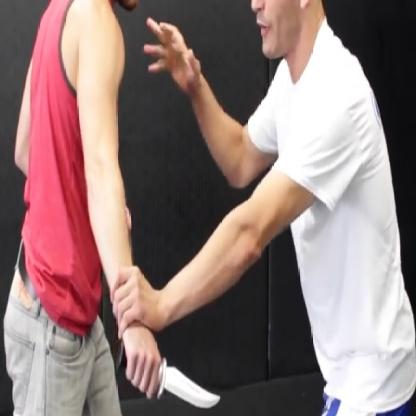knife: (113, 333, 230, 415)
